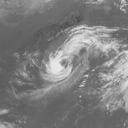cyclone: (40, 47, 73, 83)
